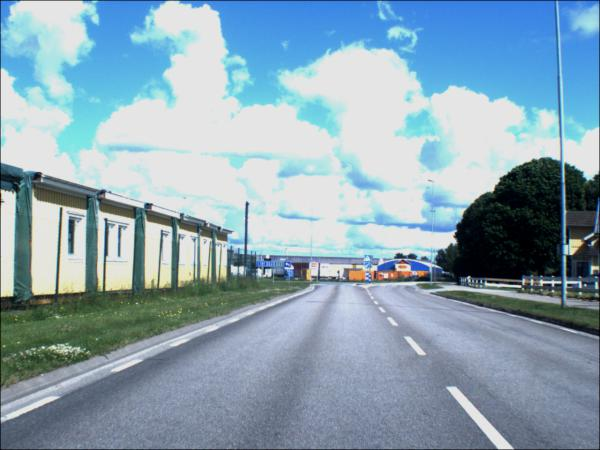PASS_RIGHT_SIDE: (364, 263, 371, 270)
PEDESTRIAN_CROSSING: (364, 257, 371, 263)
